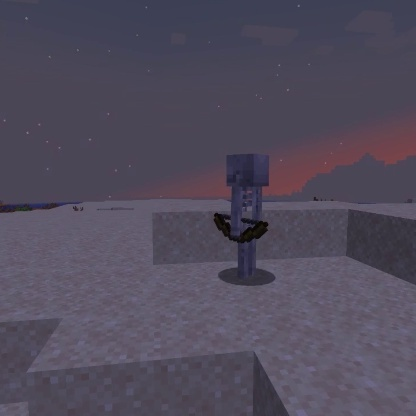skeleton: (210, 151, 273, 283)
